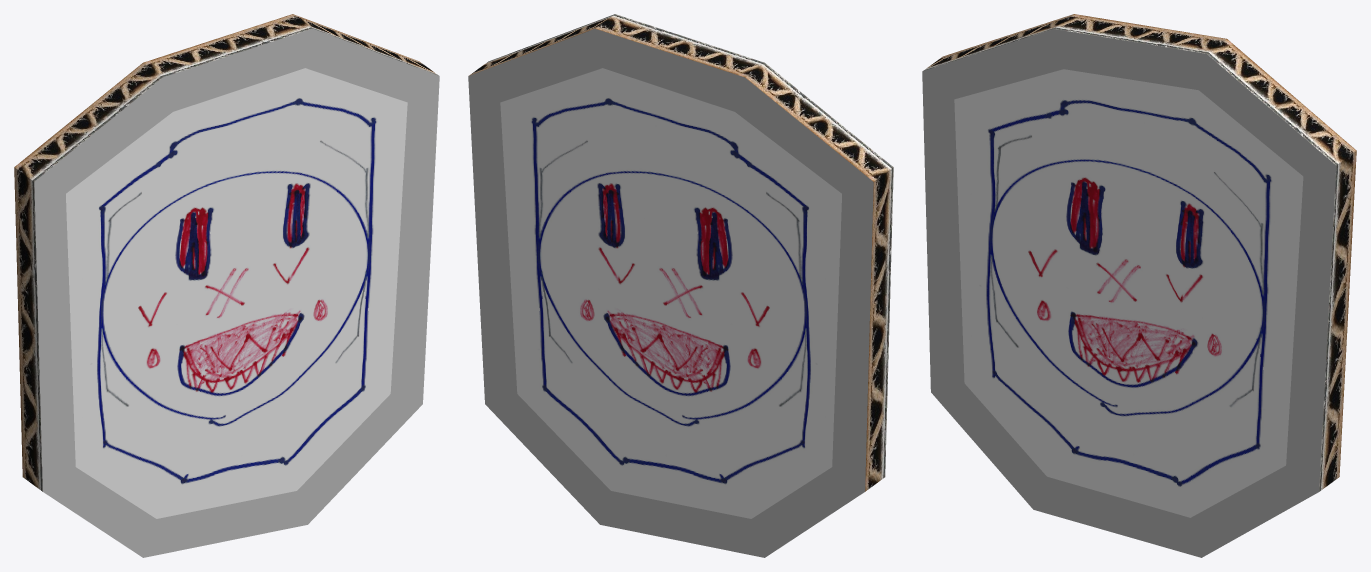
Rendered from PizzaLeikkuulaudalla.fbx.
3 views of the same model, side by side, from view 1: azimuth 30°, elevation 25°; view 2: azimuth 150°, elevation 25°; view 3: azimuth 330°, elevation 25° (orthographic). The views are drawn at different scales.
Parts seen in each view (by area): view 1: PizzaLeikkuulaudalla; view 2: PizzaLeikkuulaudalla; view 3: PizzaLeikkuulaudalla.
Part boxes in pixels (x1,y1,x2,y2): PizzaLeikkuulaudalla: (14, 14, 439, 557); PizzaLeikkuulaudalla: (468, 14, 893, 557); PizzaLeikkuulaudalla: (922, 14, 1356, 557).
Size of the model in its own units: 181 by 211 by 15.54.
